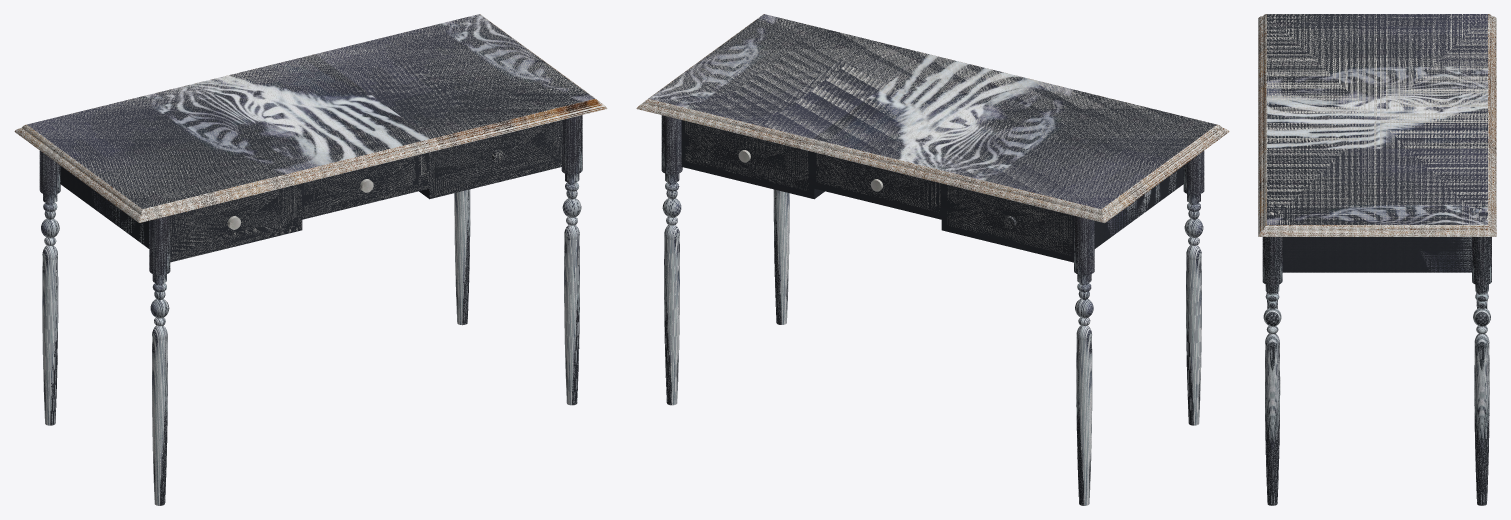
File: prop_bureau_maison.fbx
The picture shows the model from 3 angles, left to right: view 1: azimuth 30°, elevation 25°; view 2: azimuth 150°, elevation 25°; view 3: azimuth 270°, elevation 25°; orthographic projection. The views are drawn at different scales.
Visible parts, largest first — view 1: Group2, Group1, Group5, Group3, Group4; view 2: Group2, Group3, Group4, Group1, Group5; view 3: Group2, Group4, Group5.
Boxes of the visible parts, x1=… form: Group2: x1=14, y1=14, x2=607, y2=262; Group1: x1=149, y1=215, x2=170, y2=505; Group5: x1=561, y1=115, x2=582, y2=405; Group3: x1=39, y1=150, x2=60, y2=425; Group4: x1=454, y1=189, x2=470, y2=325; Group2: x1=636, y1=14, x2=1229, y2=262; Group3: x1=1074, y1=215, x2=1094, y2=505; Group4: x1=661, y1=115, x2=682, y2=405; Group1: x1=1183, y1=151, x2=1204, y2=425; Group5: x1=773, y1=189, x2=789, y2=324; Group2: x1=1258, y1=14, x2=1496, y2=272; Group4: x1=1472, y1=237, x2=1491, y2=505; Group5: x1=1262, y1=237, x2=1282, y2=505.
Bounding box in the file's own units: 1.3 × 0.8 × 0.6.
